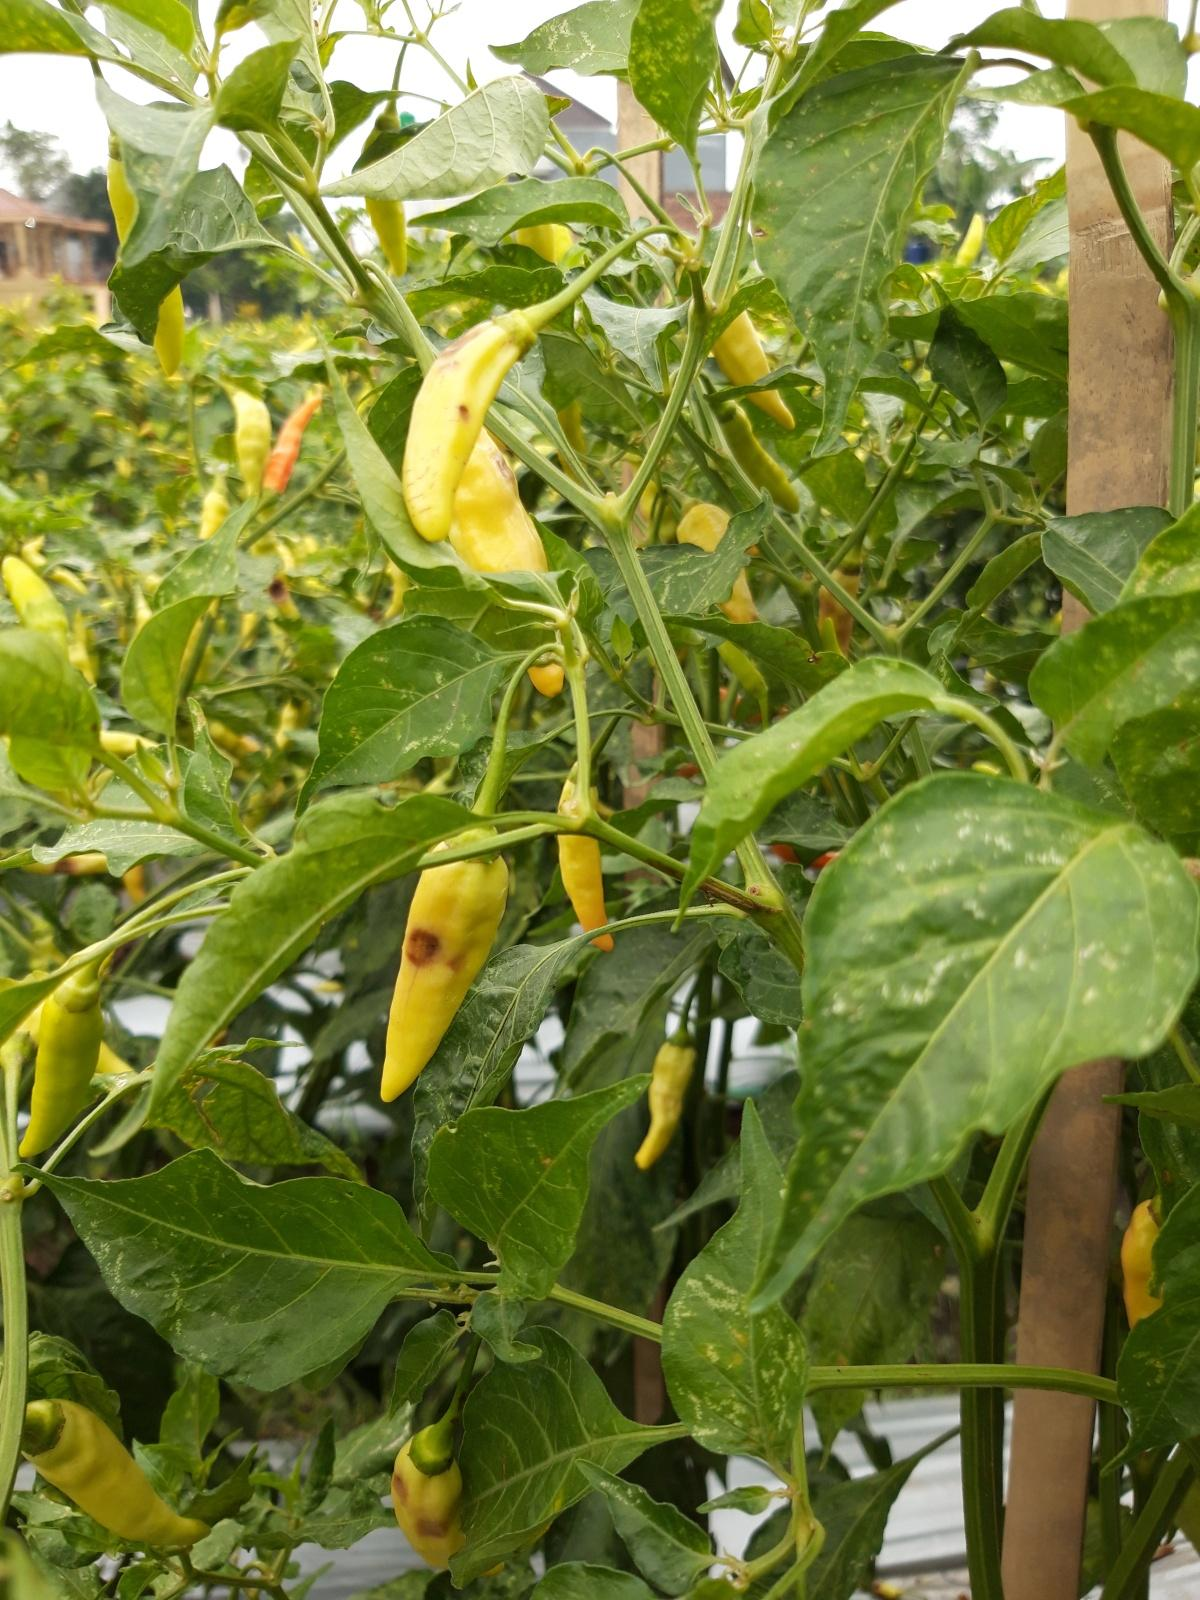cabai_normal: (23, 1403, 211, 1543), (682, 238, 797, 427), (16, 981, 103, 1157), (556, 758, 614, 949), (721, 408, 804, 515), (635, 1033, 693, 1170), (262, 396, 325, 501), (224, 386, 274, 495), (1, 557, 67, 627)
lalat_buah: (381, 826, 508, 1104), (401, 309, 534, 544), (392, 1425, 503, 1577)
